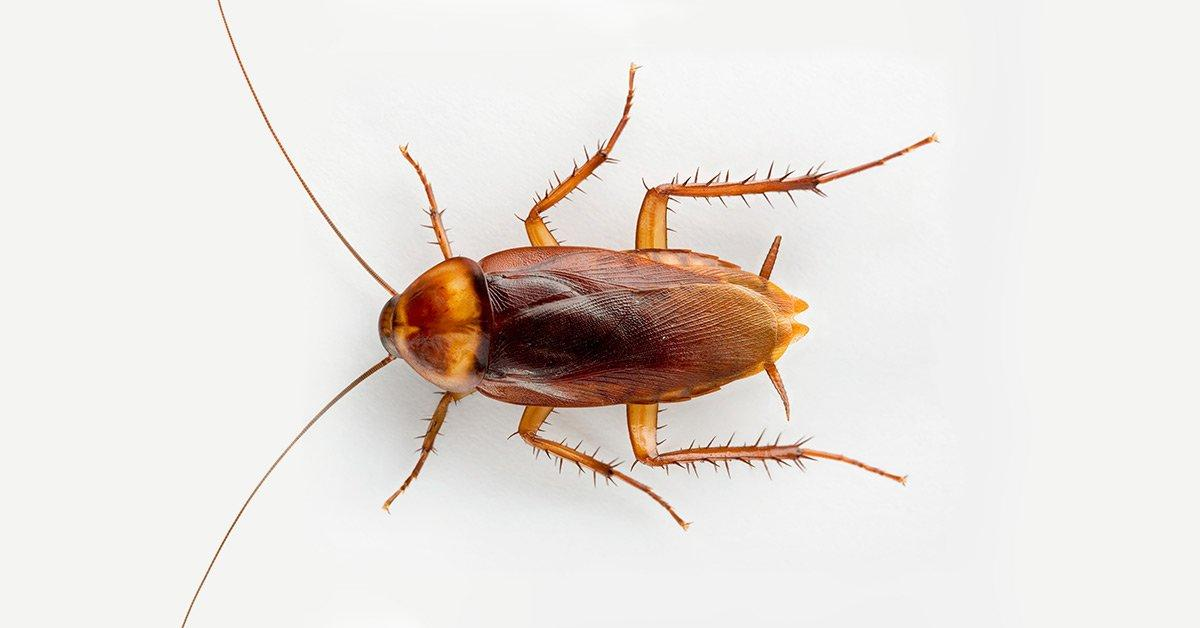cockroach: (353, 233, 818, 428)
